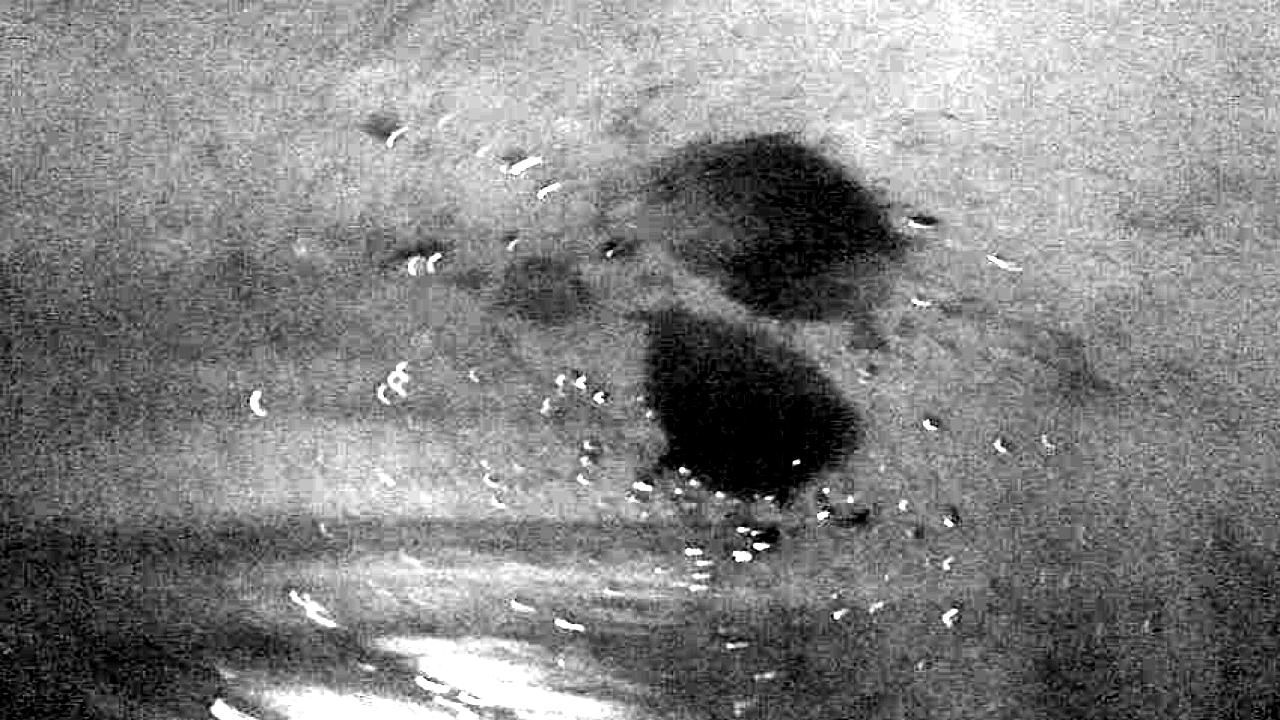drinks Stains: (616, 124, 911, 530), (460, 223, 604, 343)
